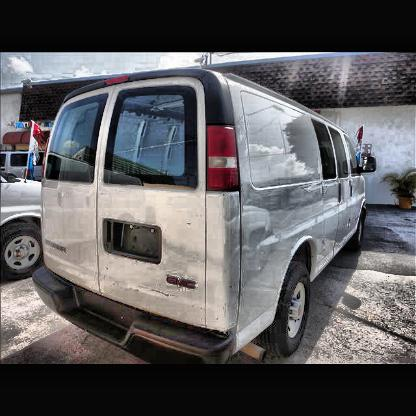GMC Savana Van 2012: (32, 68, 381, 365)
